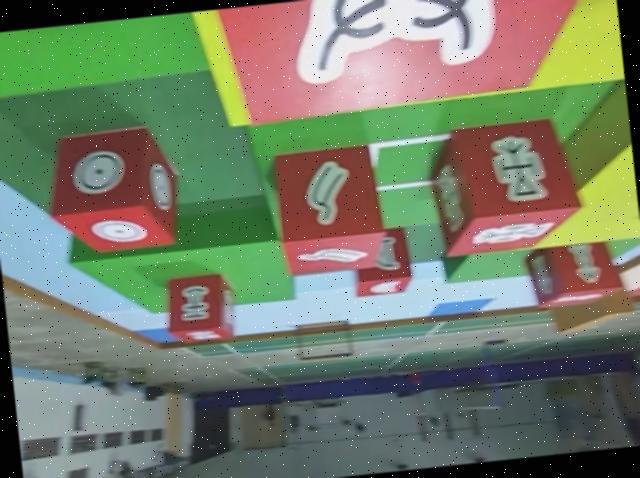R2 Real: (214, 0, 618, 134), (426, 114, 589, 260), (40, 121, 187, 261), (270, 142, 393, 281), (523, 238, 626, 313), (162, 269, 242, 351), (347, 224, 416, 300)
